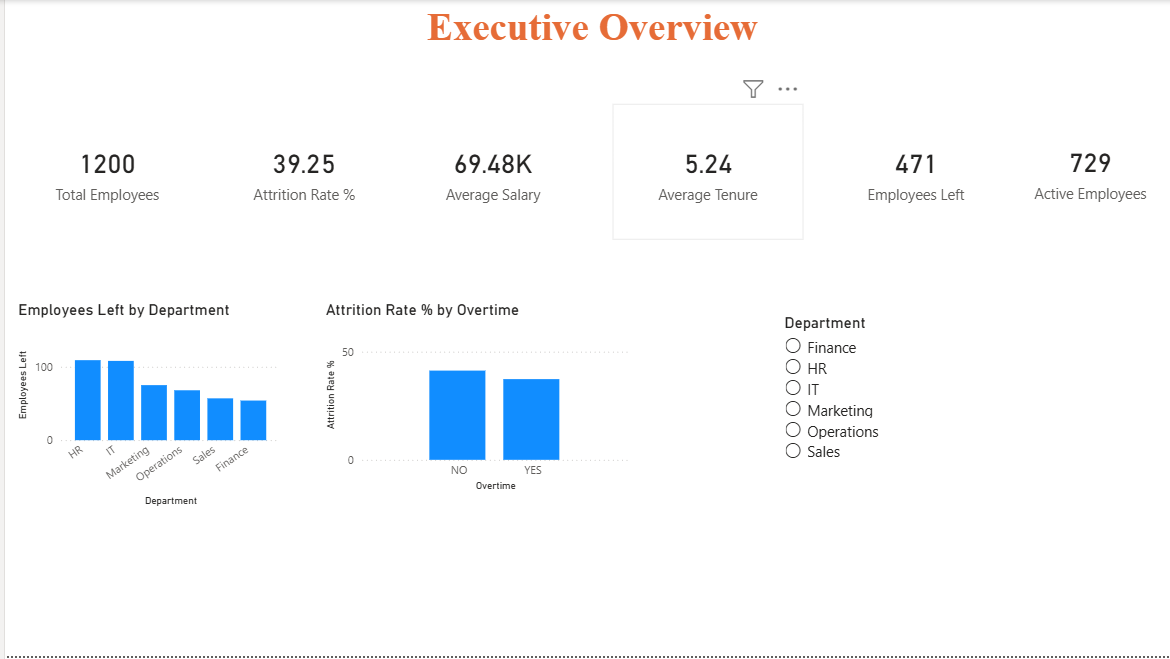

What the dashboard file says about the page in this screenshot:
{"tool":"powerbi","page":{"name":"Page 1","canvas":[1280,720],"ordinal":0},"visuals":[{"type":"textbox","box":[9.6,0,1270.7,74.1],"z":0},{"type":"card","fields":{"Values":["Raw_HR_Data.Total Employees"]},"box":[9.6,113.9,205.8,149.6],"z":1},{"type":"card","fields":{"Values":["Raw_HR_Data.Attrition Rate %"]},"box":[225,113.9,207.2,149.6],"z":2},{"type":"card","fields":{"Values":["Raw_HR_Data.Average Salary"]},"box":[432.2,113.9,207.2,149.6],"z":3},{"type":"card","fields":{"Values":["Raw_HR_Data.Average Tenure"]},"box":[666.9,113.9,209.9,149.6],"z":4},{"type":"card","fields":{"Values":["Raw_HR_Data.Employees Left"]},"box":[897.4,113.9,205.8,149.6],"z":5},{"type":"card","fields":{"Values":["Raw_HR_Data.Active Employees"]},"box":[1103.3,112.5,177,150.9],"z":6},{"type":"clusteredColumnChart","fields":{"Category":["Raw_HR_Data.Department"],"Y":["Raw_HR_Data.Employees Left"]},"box":[9.6,329.3,297.8,231.9],"z":7},{"type":"clusteredColumnChart","fields":{"Category":["Raw_HR_Data.Overtime"],"Y":["Raw_HR_Data.Attrition Rate %"]},"box":[347.2,329.3,343.1,215.4],"z":8},{"type":"listSlicer","fields":{"Values":["Raw_HR_Data.Department"]},"box":[850.8,344.4,297.8,216.8],"z":9}]}

Visuals, with their boxes in screenshot pixels (x1, y1, x2, y2), scaled from the page's 1280x720 canvas onto the 1170x659 screenshot:
textbox: x1=9 y1=0 x2=1169 y2=68
card - Raw_HR_Data.Total Employees: x1=9 y1=104 x2=197 y2=241
card - Raw_HR_Data.Attrition Rate %: x1=206 y1=104 x2=395 y2=241
card - Raw_HR_Data.Average Salary: x1=395 y1=104 x2=584 y2=241
card - Raw_HR_Data.Average Tenure: x1=610 y1=104 x2=801 y2=241
card - Raw_HR_Data.Employees Left: x1=820 y1=104 x2=1008 y2=241
card - Raw_HR_Data.Active Employees: x1=1008 y1=103 x2=1169 y2=241
clusteredColumnChart - Raw_HR_Data.Department x Raw_HR_Data.Employees Left: x1=9 y1=301 x2=281 y2=514
clusteredColumnChart - Raw_HR_Data.Overtime x Raw_HR_Data.Attrition Rate %: x1=317 y1=301 x2=631 y2=499
listSlicer - Raw_HR_Data.Department: x1=778 y1=315 x2=1050 y2=514
